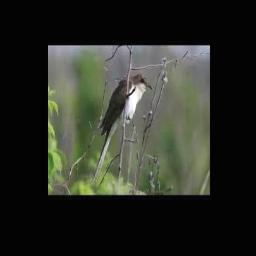Cuckoo: (92, 72, 152, 184)
